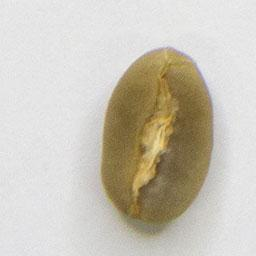premium: (97, 41, 217, 226)
